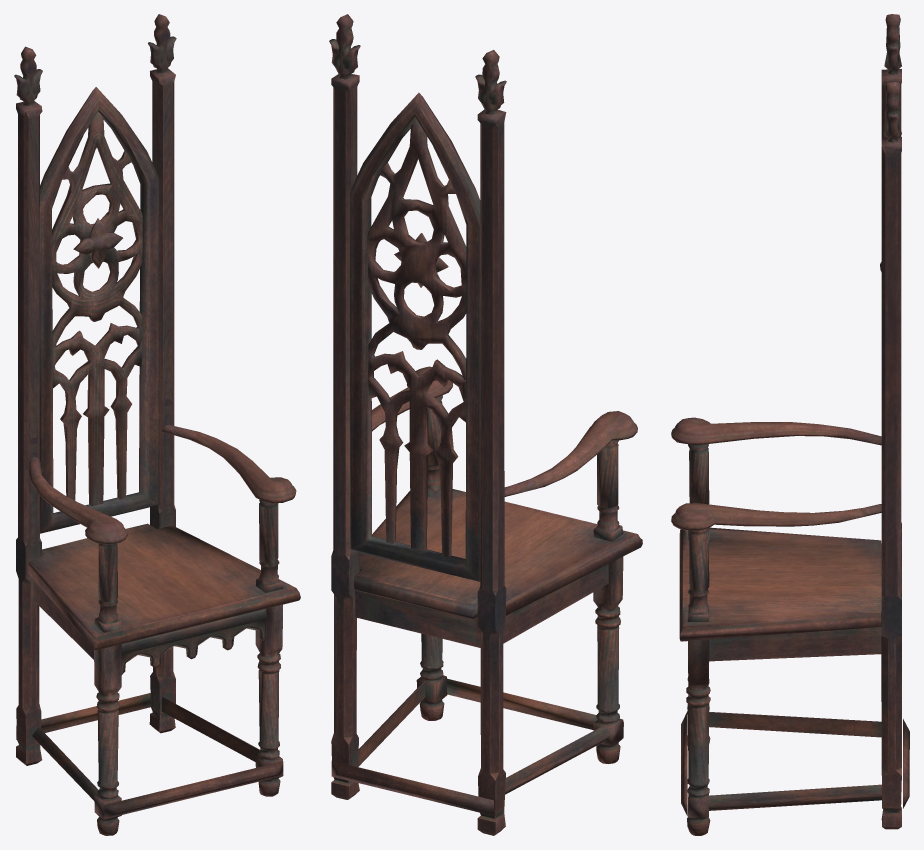
Rendered from WoodenChair_01.glb.
3 views of the same model, side by side, from view 1: azimuth 30°, elevation 25°; view 2: azimuth 150°, elevation 25°; view 3: azimuth 270°, elevation 25° (orthographic). The views are drawn at different scales.
Visible parts, largest first — view 1: WoodenChair_01; view 2: WoodenChair_01; view 3: WoodenChair_01.
Part boxes in pixels (x1=…): WoodenChair_01: x1=14, y1=14, x2=300, y2=835; WoodenChair_01: x1=329, y1=14, x2=642, y2=835; WoodenChair_01: x1=671, y1=14, x2=909, y2=835.
Bounding box in the file's own units: 0.6876 × 2.27 × 0.6605.
Materials: 1 (1 with a texture image).
